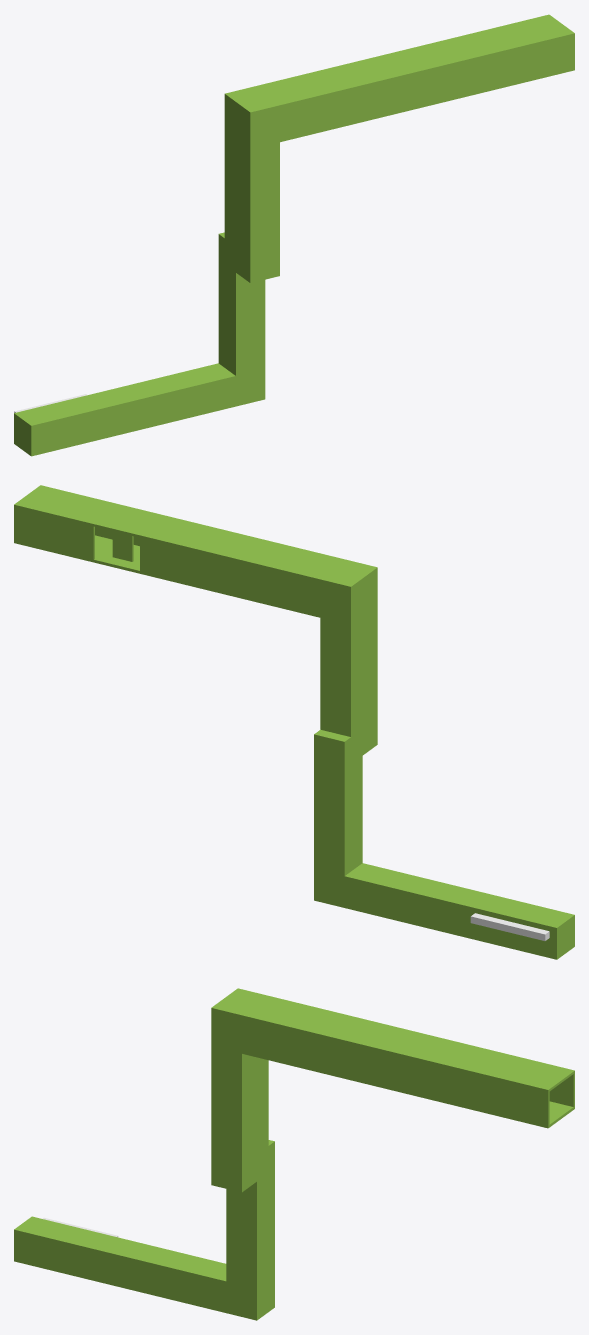
The model's file is tutorial_0003_dec.obj.
The picture shows the model from 3 angles, top to bottom: view 1: azimuth 30°, elevation 25°; view 2: azimuth 150°, elevation 25°; view 3: azimuth 330°, elevation 25°; orthographic projection. The views are drawn at different scales.
Parts seen in each view (by area): view 1: Cube.038_Cube.043; view 2: Cube.038_Cube.043; view 3: Cube.038_Cube.043.
Part boxes in pixels (x1,y1,x2,y2): Cube.038_Cube.043: [14, 14, 574, 456]; Cube.038_Cube.043: [14, 485, 574, 959]; Cube.038_Cube.043: [14, 988, 574, 1320].
Size of the model in its own units: 1409 by 775 by 172.
